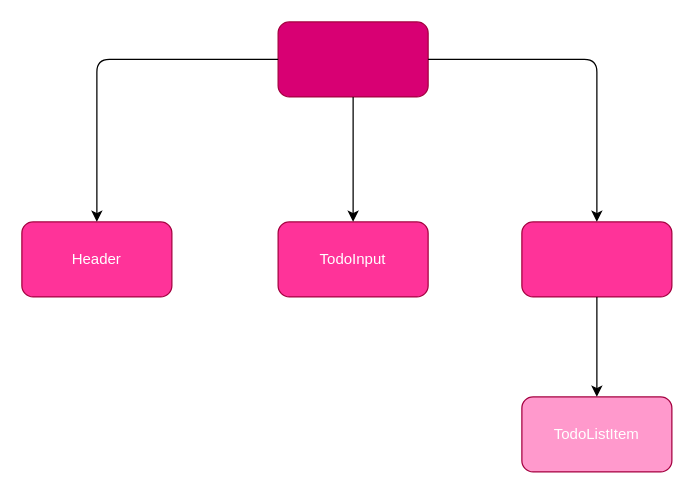
Some shapes in this 694 by 494 pixel diagram are drawn without their labels. The centre of each missing label's shape, as x and y in pixels:
"App" belongs at (352,59).
"TodoList" belongs at (596,259).
